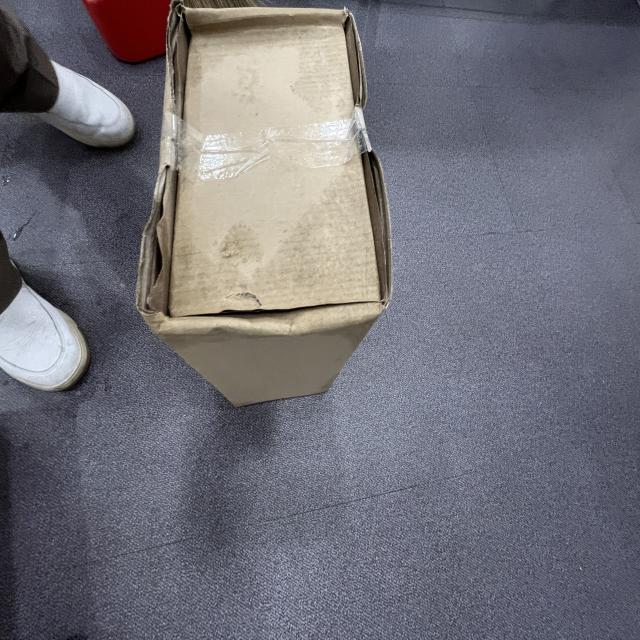wet: (284, 167, 384, 333), (169, 221, 259, 319)
